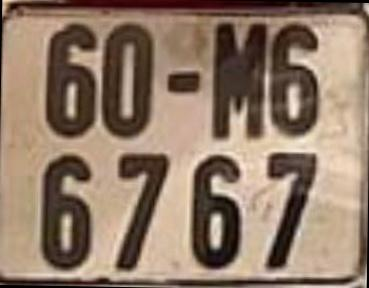-: (165, 70, 201, 97)
0: (101, 24, 152, 135)
6: (43, 22, 99, 140), (40, 155, 93, 270), (271, 22, 322, 138), (191, 156, 243, 268)
7: (116, 150, 172, 272), (265, 148, 320, 271)
M: (211, 22, 267, 144)
